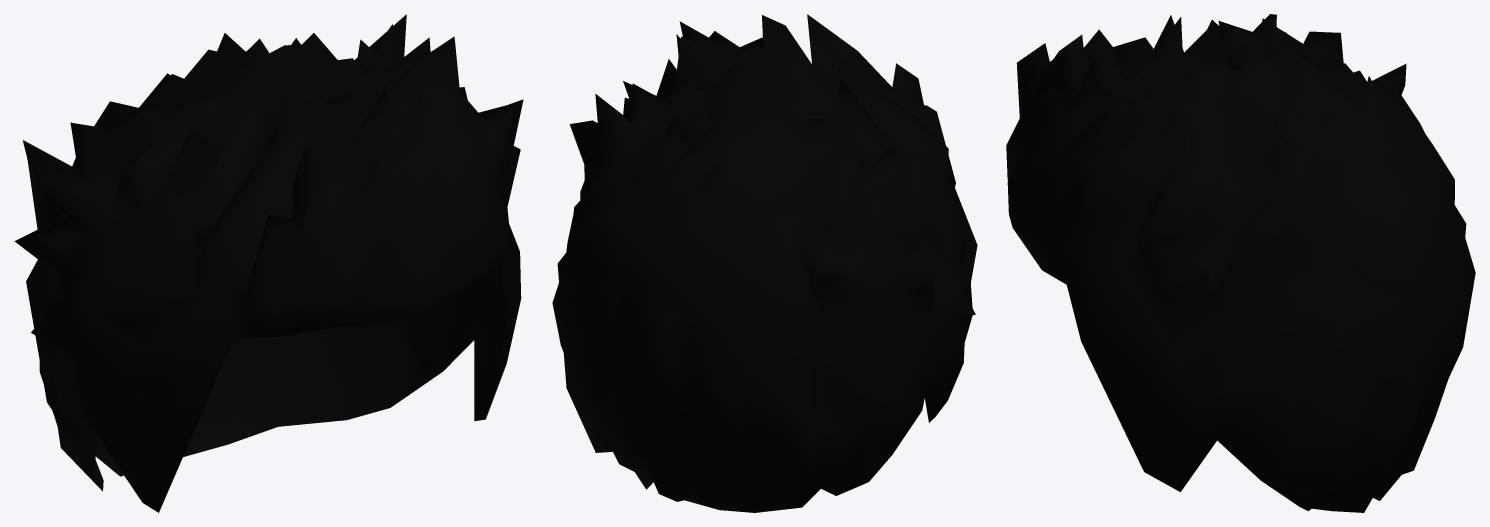
The model's file is AF_M_hair_31.fbx.
3 renders of one model, left to right at view 1: azimuth 30°, elevation 25°; view 2: azimuth 150°, elevation 25°; view 3: azimuth 270°, elevation 25°, orthographic. The views are drawn at different scales.
Visible parts, largest first — view 1: AF_M_hair_31; view 2: AF_M_hair_31; view 3: AF_M_hair_31.
Boxes of the visible parts, box(x1,y1,x2,y2) form: AF_M_hair_31: box(14, 14, 523, 512); AF_M_hair_31: box(552, 14, 977, 512); AF_M_hair_31: box(1006, 14, 1475, 512).
Size of the model in its own units: 805 by 755 by 706.
